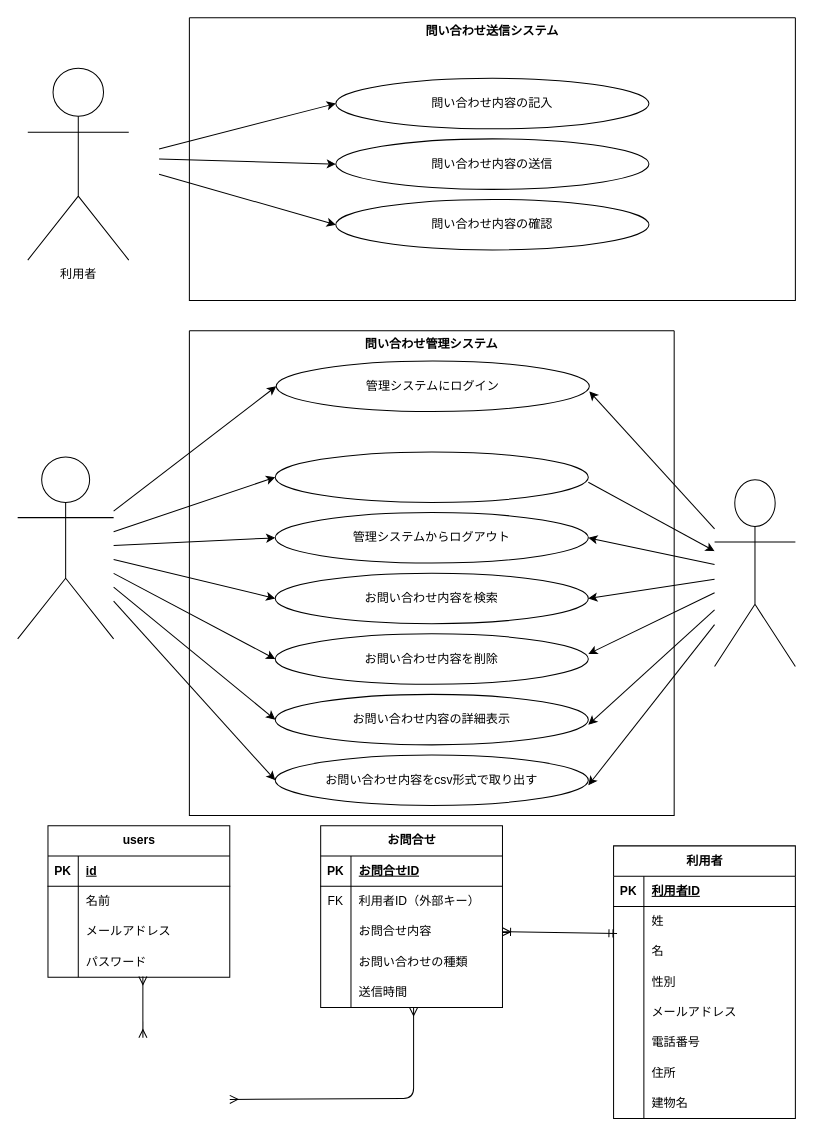
The diagram is 813 pixels wide and 1136 high, and some of its shapes have lost their labels. The centre of each missing label's shape, as x and y in pixels:
"新規ユーザーの作成・登録" goes at point (431, 476).
"新規管理者" goes at point (754, 573).
"管理者" goes at point (65, 547).
